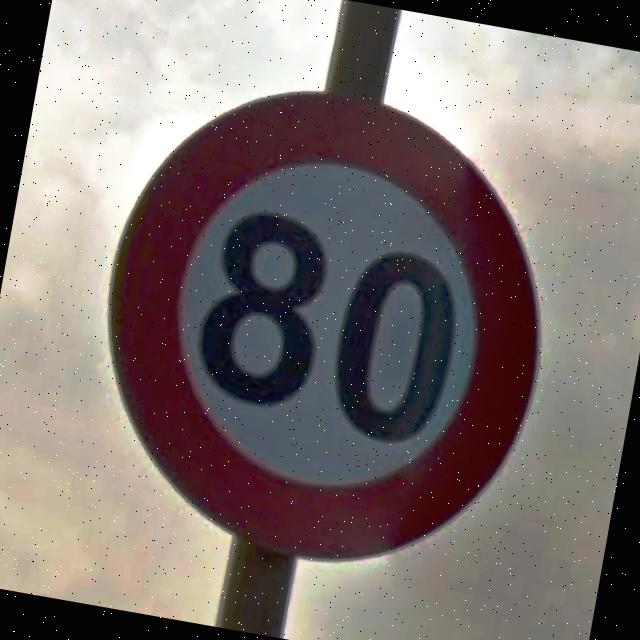max80: (67, 54, 580, 594)
